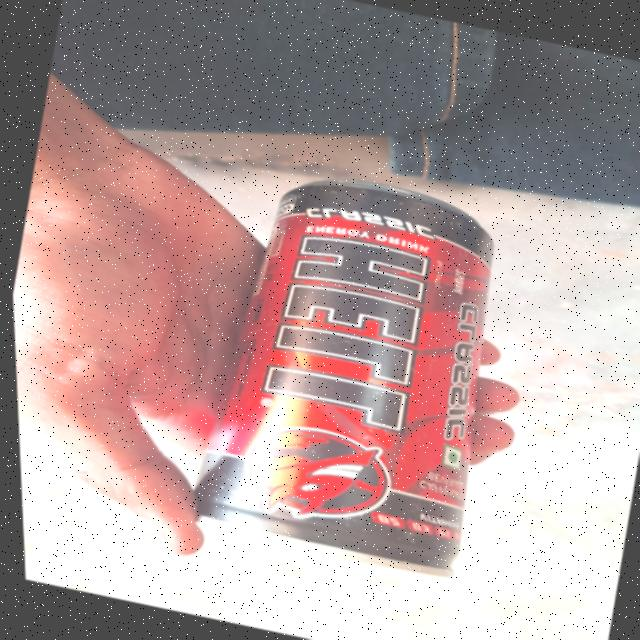Hell Classic: (134, 148, 536, 588)
